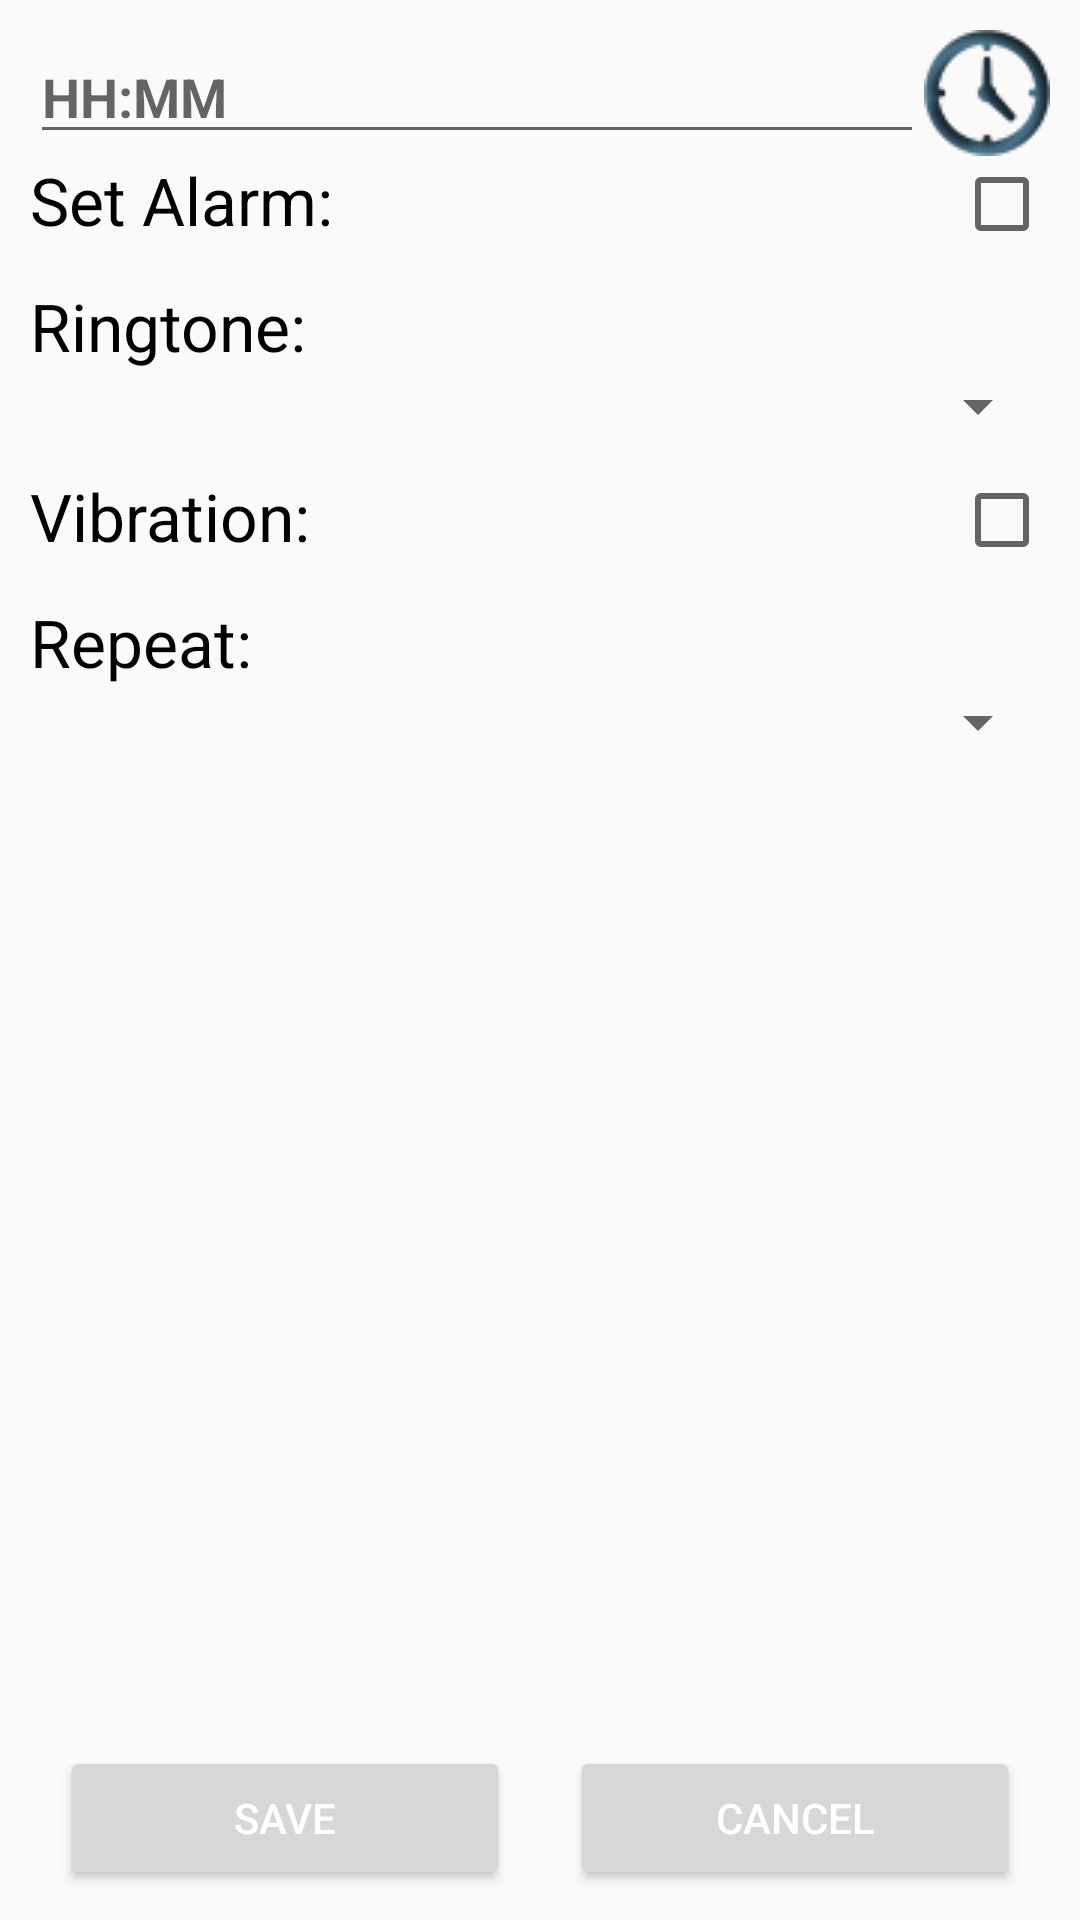

Point at icon controls on the screen. Image size 1080 × 1920, points as point (x, y).
clock: point (987, 93)
